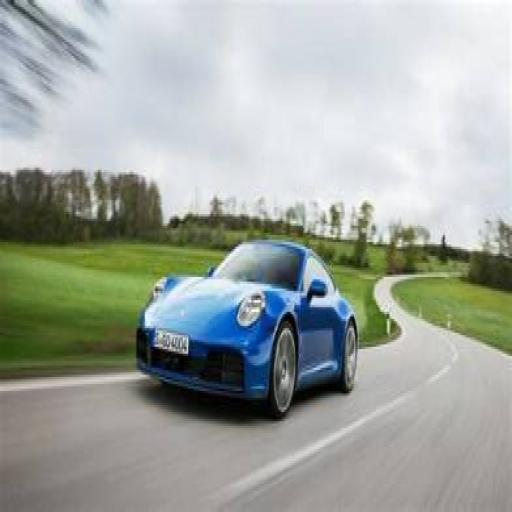car: (136, 240, 357, 416)
